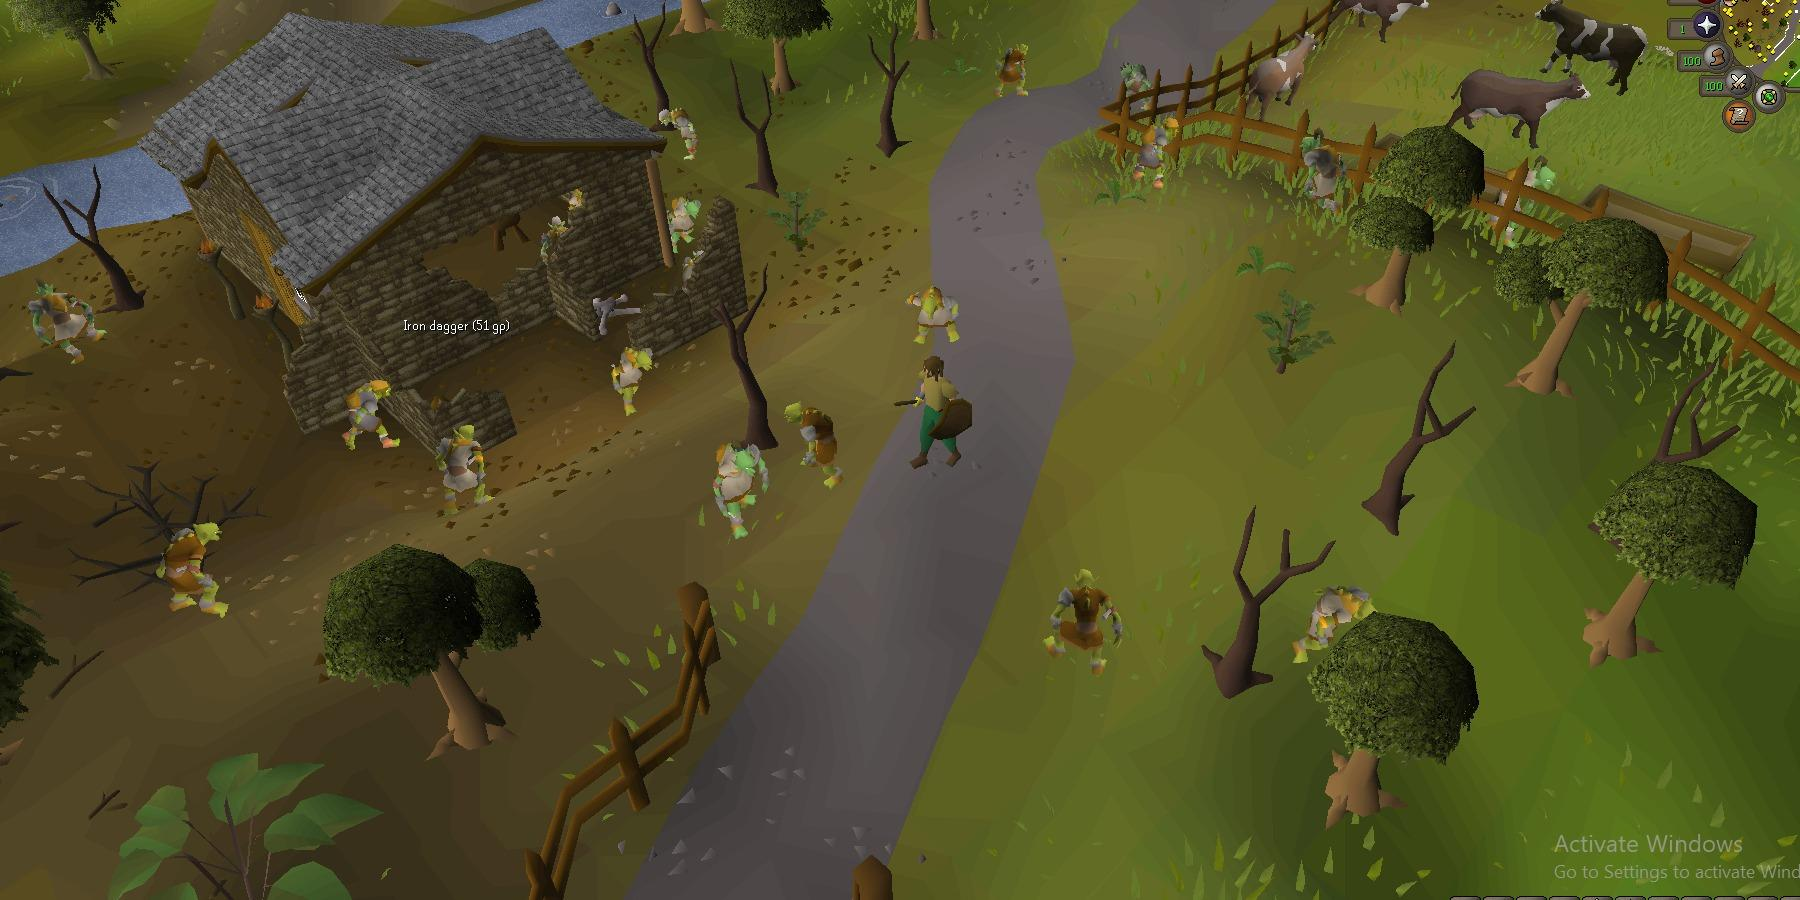goblin: (1043, 568, 1124, 676), (25, 277, 108, 365), (155, 521, 230, 616), (1291, 584, 1379, 664), (712, 439, 771, 537), (434, 425, 496, 515), (782, 401, 846, 488), (1291, 127, 1348, 216), (338, 380, 401, 450), (903, 285, 963, 344), (607, 346, 653, 416), (1132, 118, 1178, 188), (657, 106, 700, 161), (664, 192, 703, 253), (994, 42, 1031, 96), (1120, 62, 1154, 111), (540, 216, 571, 264)
